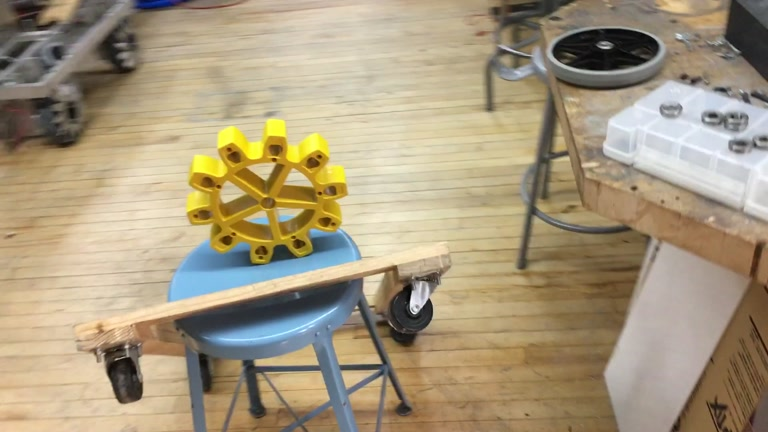gear: (186, 121, 349, 266)
